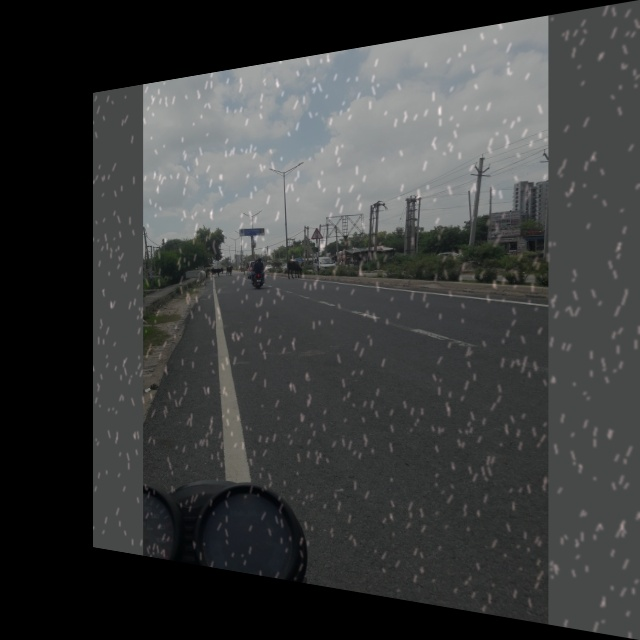Gap_in_Median: (309, 225, 325, 242)
